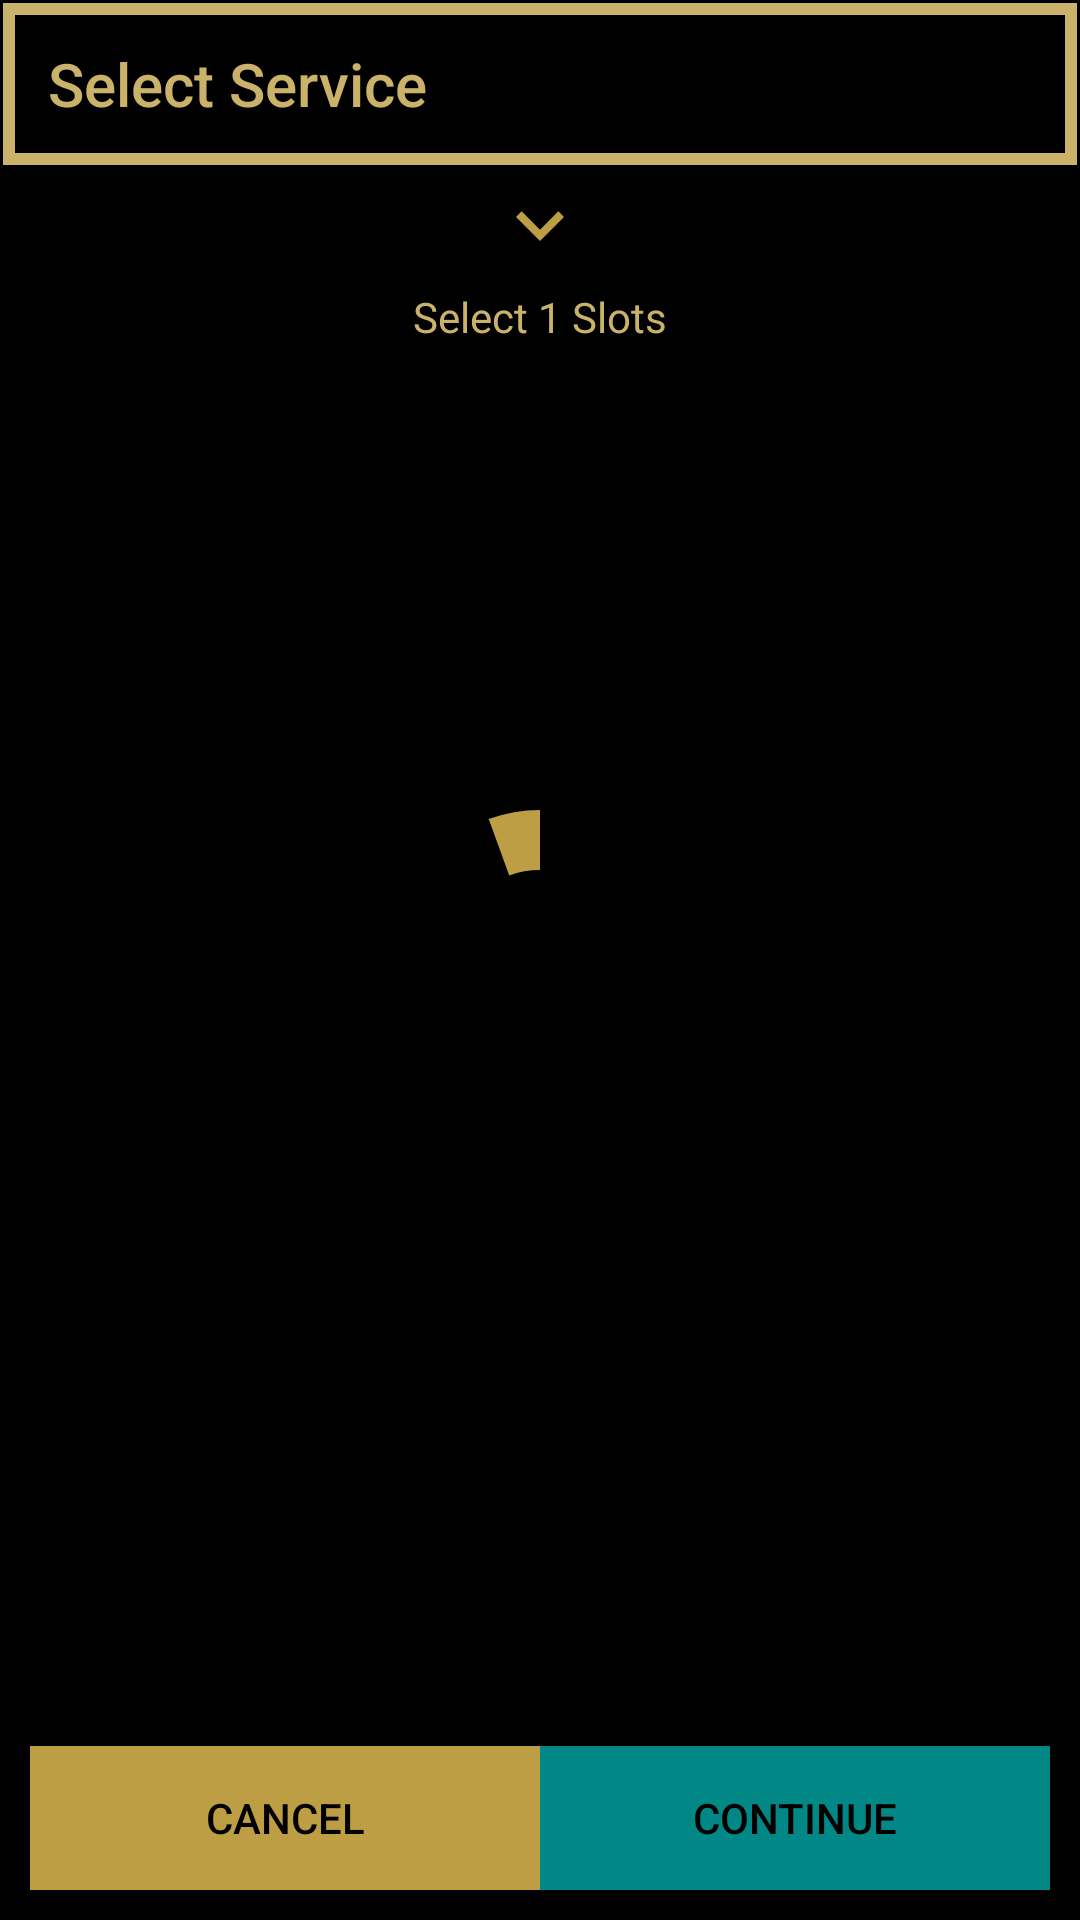

Where to tap for icons on this 1080x1920 app screen, as (x,y):
down arrow: (540,226)
